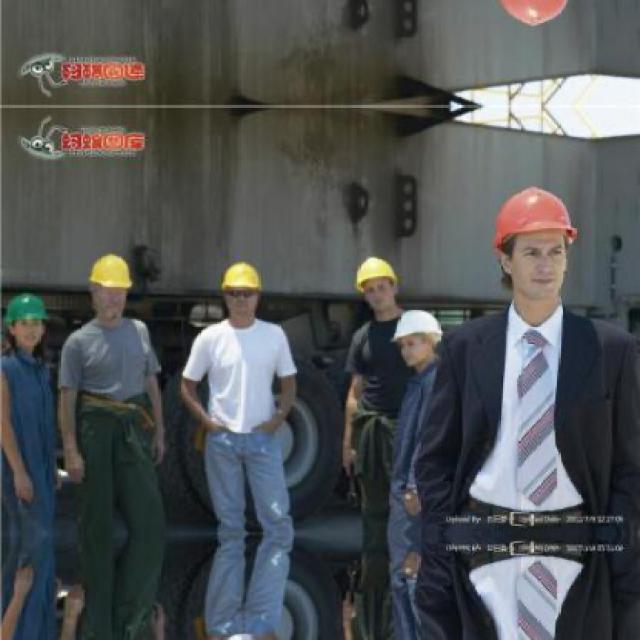helmet: (483, 173, 582, 316), (83, 242, 139, 330), (483, 0, 583, 42), (216, 250, 270, 327), (350, 250, 404, 318), (0, 286, 54, 352), (391, 309, 443, 370)
